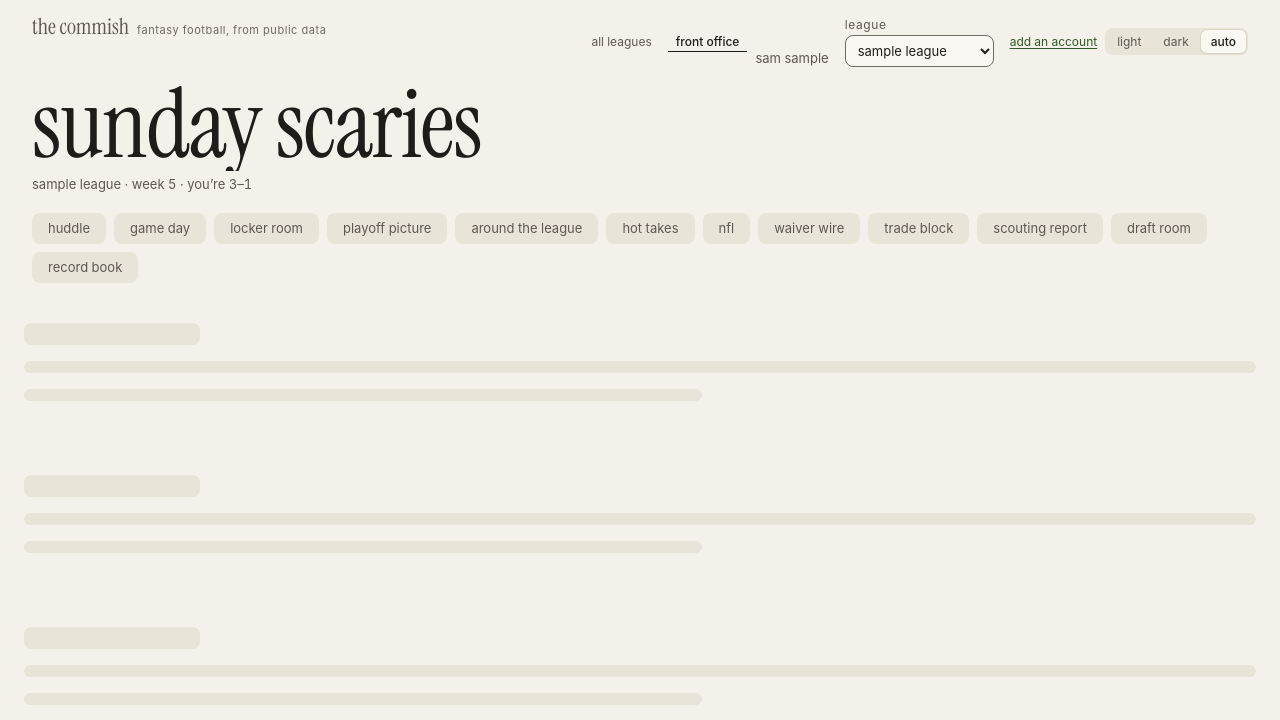
Scenario: app shell › switches the followed league from the sidebar
Select "Half Point Keepers" in the dropdown labelled "League" at (919, 51), box left=845, top=35, right=994, bottom=67
(page scrolled)
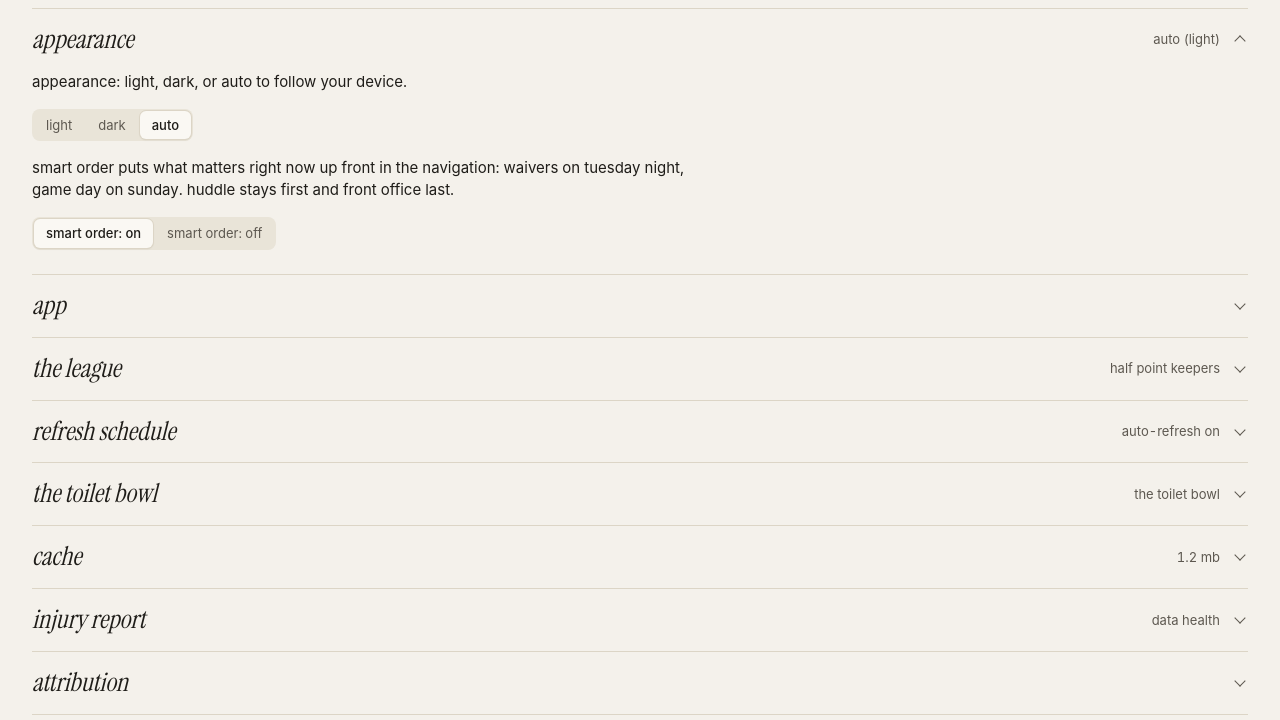
expect the text "Half Point Keepers" is shown: met, box left=1110, top=359, right=1220, bottom=378
